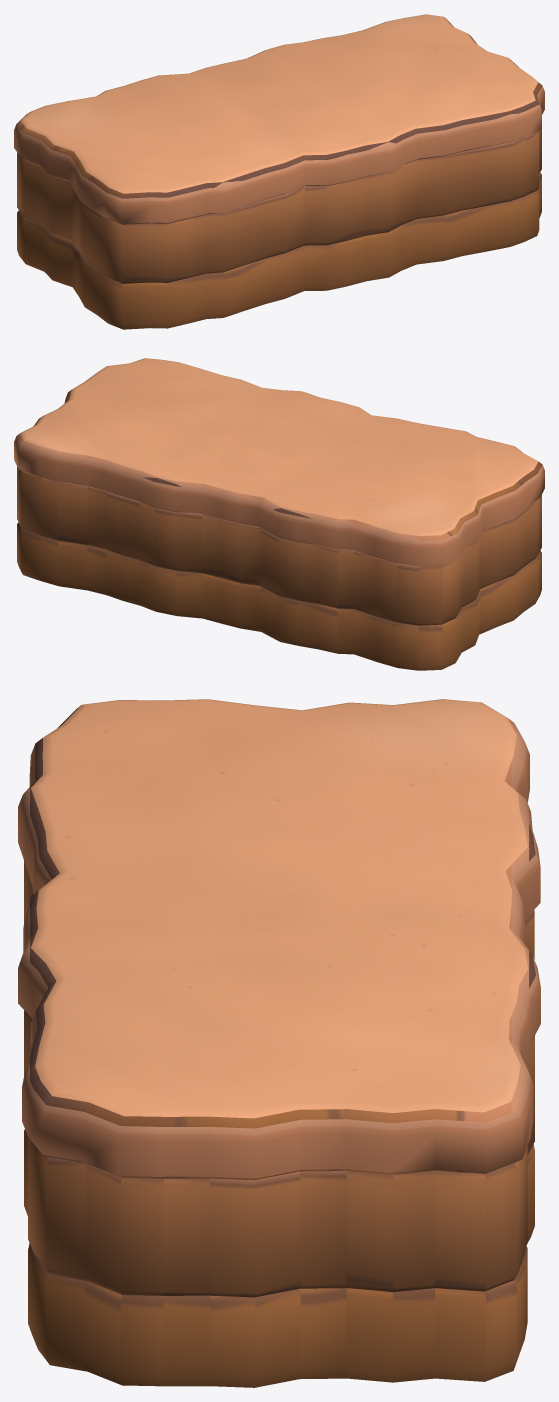
Rendered from bank_2x1.glb.
The picture shows the model from 3 angles, top to bottom: view 1: azimuth 30°, elevation 25°; view 2: azimuth 150°, elevation 25°; view 3: azimuth 270°, elevation 25°; orthographic projection. The views are drawn at different scales.
Visible parts, largest first — view 1: bank_2x1; view 2: bank_2x1; view 3: bank_2x1.
Part boxes in pixels (<box>): bank_2x1: <box>14,14,544,329</box>; bank_2x1: <box>14,358,544,670</box>; bank_2x1: <box>18,699,540,1387</box>.
Size of the model in its own units: 2.04 by 0.6 by 1.05.
Materials: 2 (2 with a texture image).
